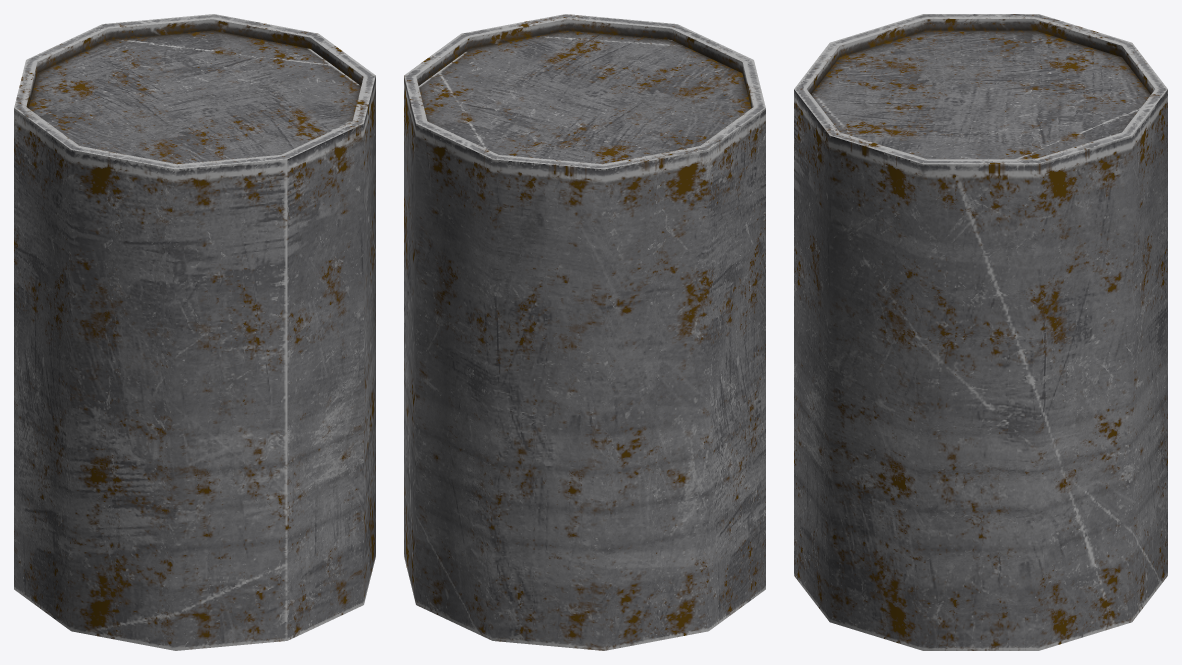
The model's file is Canold_AA.fbx.
3 views of the same model, side by side, from view 1: azimuth 30°, elevation 25°; view 2: azimuth 150°, elevation 25°; view 3: azimuth 270°, elevation 25° (orthographic).
Visible parts, largest first — view 1: Canold_AA; view 2: Canold_AA; view 3: Canold_AA.
Boxes of the visible parts, <box> form: Canold_AA: <box>14,14,375,650</box>; Canold_AA: <box>404,14,765,650</box>; Canold_AA: <box>794,14,1167,650</box>.
Bounding box in the file's own units: 0.0583 × 0.0614 × 0.0881.
1 material, 1 textured.
